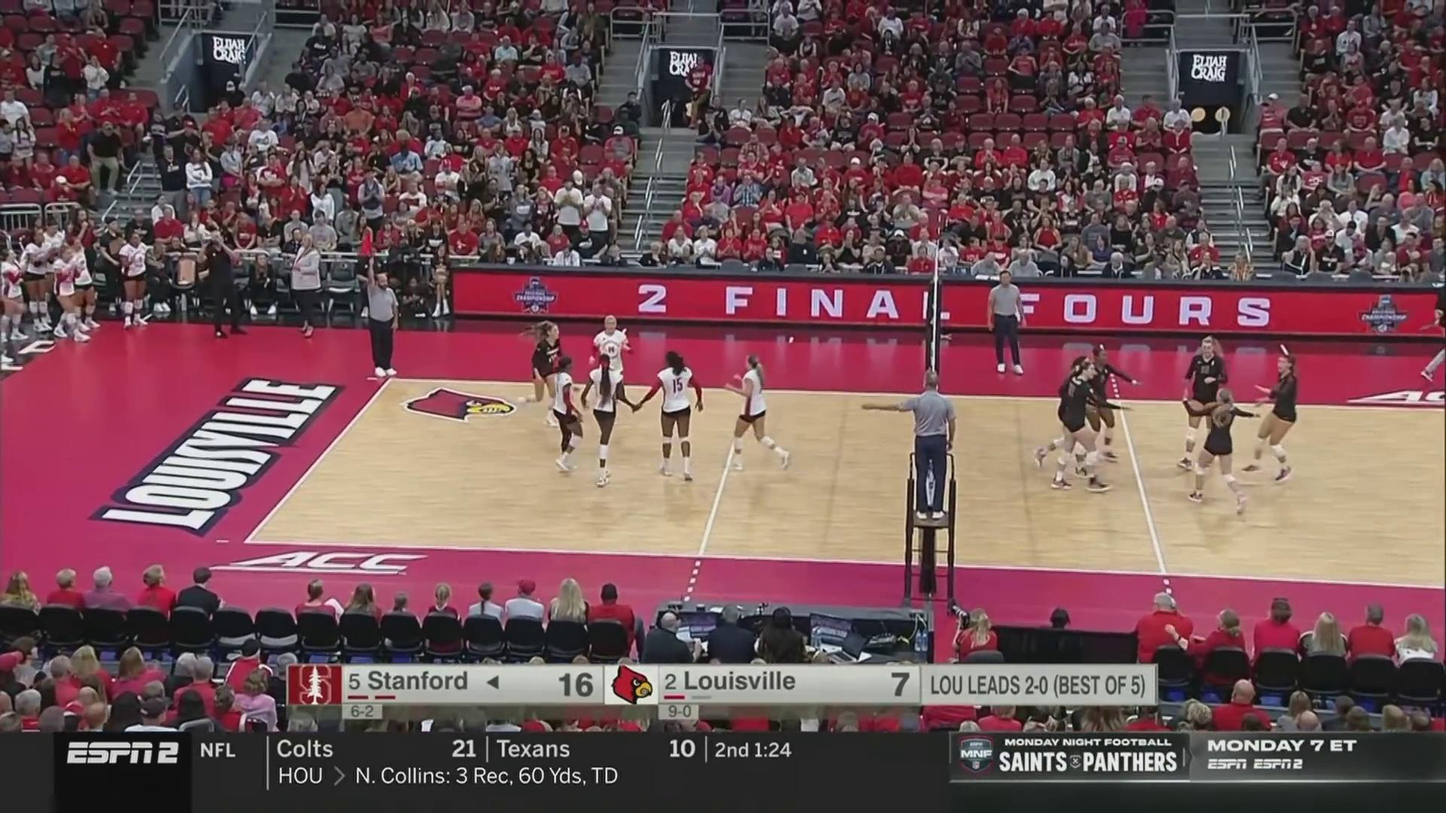player: (1186, 389, 1252, 519), (1052, 361, 1110, 492), (1033, 358, 1096, 478), (644, 353, 703, 480), (726, 356, 791, 471), (1178, 340, 1230, 470), (1248, 355, 1300, 481), (584, 354, 633, 486), (1079, 349, 1134, 463), (516, 319, 569, 427), (590, 312, 631, 415), (548, 358, 584, 471)
refree: (906, 369, 957, 518), (367, 260, 401, 381), (991, 271, 1028, 379)
